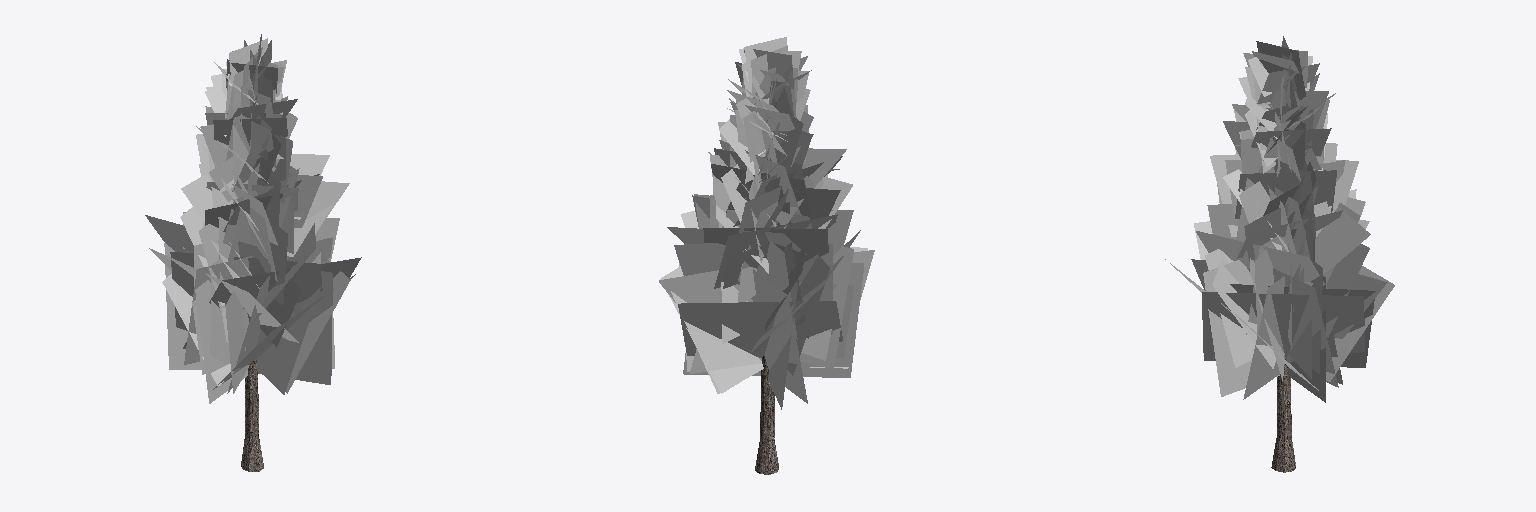
3 renders of one model, left to right at view 1: azimuth 30°, elevation 25°; view 2: azimuth 150°, elevation 25°; view 3: azimuth 270°, elevation 25°, orthographic.
Visible parts, largest first — view 1: pine; view 2: pine; view 3: pine.
Boxes of the visible parts, box(x1,y1,x2,y2) form: pine: box(145, 34, 361, 471); pine: box(659, 37, 874, 474); pine: box(1165, 36, 1394, 472).
Size of the model in its own units: 7.98 by 19.73 by 9.73.
Materials: 2 (1 with a texture image).